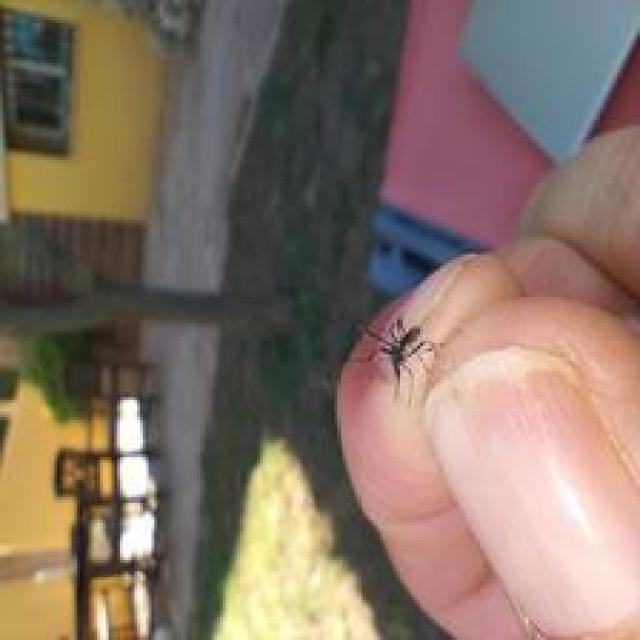Aedes albopictus: (362, 314, 438, 397)
